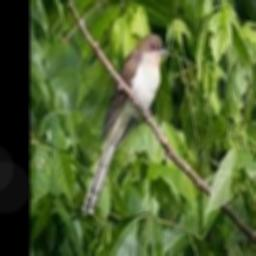Cuckoo: (81, 34, 171, 215)
